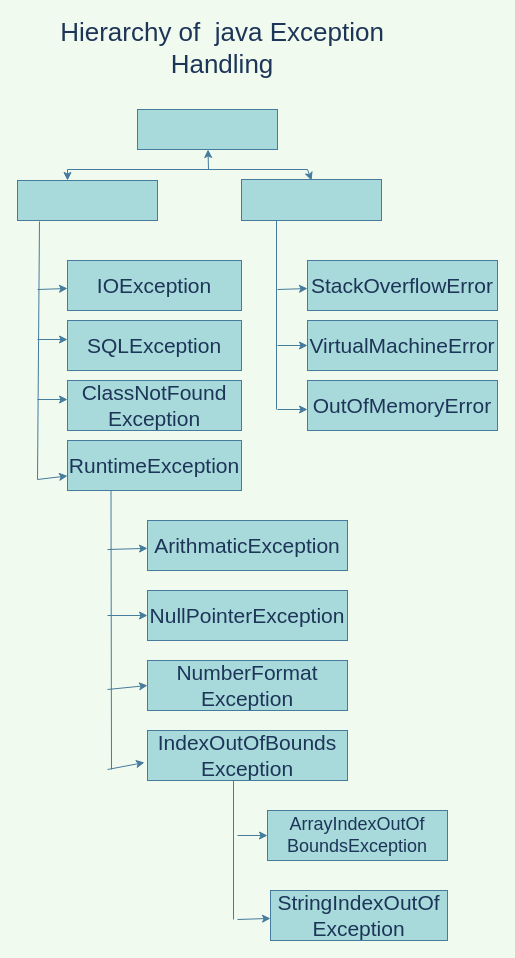
Image size: 515x958. Some labels were removed from this diagram. The centre of each missing label's shape, as x and y in pixels:
ERROR: (311,199)
EXCEPTION: (87,200)
THROWABLE: (207,129)
